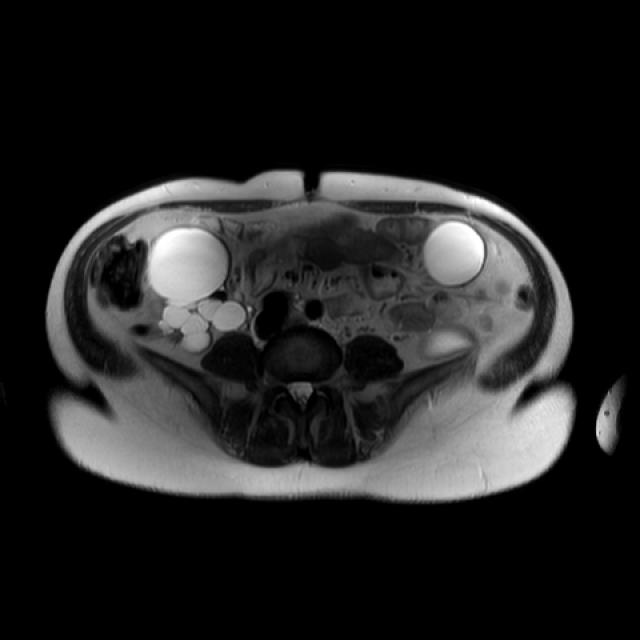sag: (149, 228, 246, 354)
sol: (422, 221, 487, 287), (419, 325, 476, 357)
